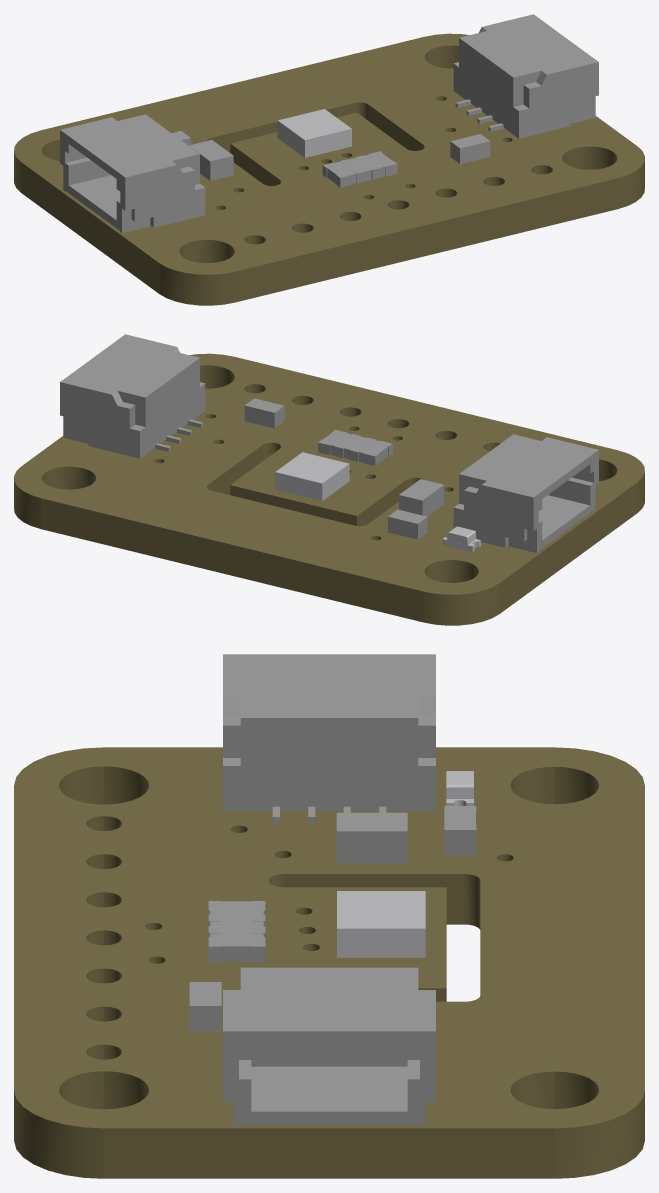
Rendered from ada-2857.glb.
The picture shows the model from 3 angles, top to bottom: view 1: azimuth 30°, elevation 25°; view 2: azimuth 150°, elevation 25°; view 3: azimuth 270°, elevation 25°; orthographic projection. The views are drawn at different scales.
Visible parts, largest first — view 1: 0.16666666666666666_0.16666666666666666_0.08333333333333333_, 0.3333333333333333_0.3333333333333333_0.3333333333333333_0, 0.5833333333333334_0.5833333333333334_0.5833333333333334_0.8; view 2: 0.16666666666666666_0.16666666666666666_0.08333333333333333_, 0.3333333333333333_0.3333333333333333_0.3333333333333333_0, 0.5833333333333334_0.5833333333333334_0.5833333333333334_0.8; view 3: 0.16666666666666666_0.16666666666666666_0.08333333333333333_, 0.3333333333333333_0.3333333333333333_0.3333333333333333_0, 0.5833333333333334_0.5833333333333334_0.5833333333333334_0.8.
Part boxes in pixels (x1,y1,x2,y2): 0.16666666666666666_0.16666666666666666_0.08333333333333333_: [14, 33, 644, 305]; 0.3333333333333333_0.3333333333333333_0.3333333333333333_0: [60, 14, 598, 233]; 0.5833333333333334_0.5833333333333334_0.5833333333333334_0.8: [277, 109, 351, 157]; 0.16666666666666666_0.16666666666666666_0.08333333333333333_: [14, 353, 644, 625]; 0.3333333333333333_0.3333333333333333_0.3333333333333333_0: [60, 334, 598, 553]; 0.5833333333333334_0.5833333333333334_0.5833333333333334_0.8: [275, 452, 480, 552]; 0.16666666666666666_0.16666666666666666_0.08333333333333333_: [14, 747, 644, 1178]; 0.3333333333333333_0.3333333333333333_0.3333333333333333_0: [189, 654, 476, 1125]; 0.5833333333333334_0.5833333333333334_0.5833333333333334_0.8: [337, 771, 473, 957].
Bounding box in the file's own units: 2.54 × 0.4529 × 1.78.
